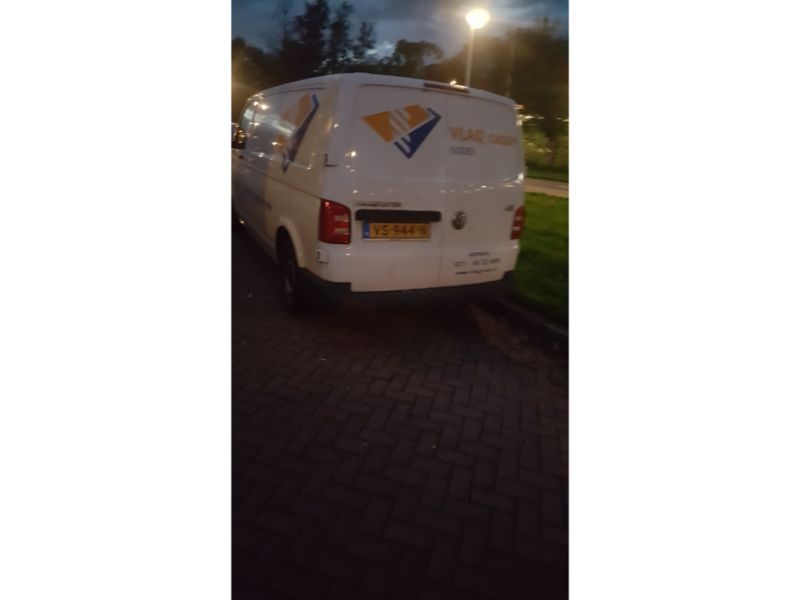kenteken: (366, 218, 432, 244)
